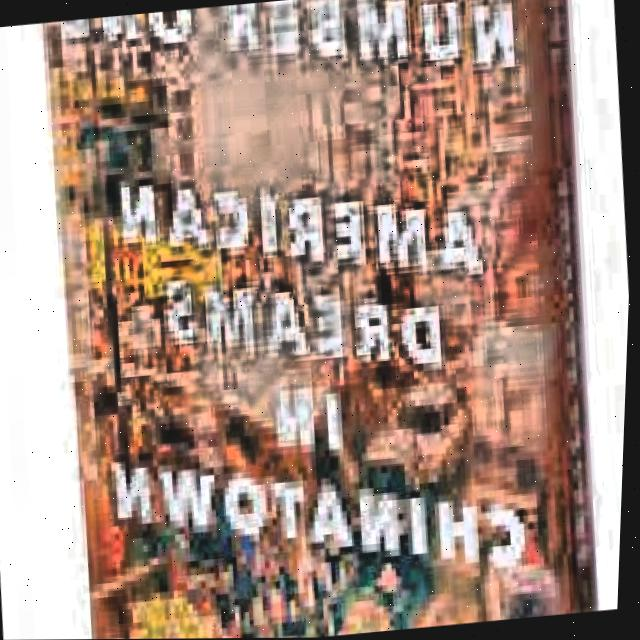paper: (20, 0, 625, 640), (22, 0, 601, 640)
